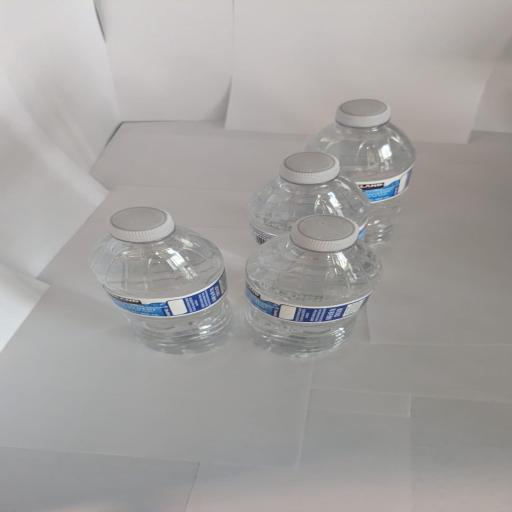waterbottle: (90, 208, 231, 353), (247, 215, 381, 356), (307, 100, 415, 243), (248, 152, 369, 243)
